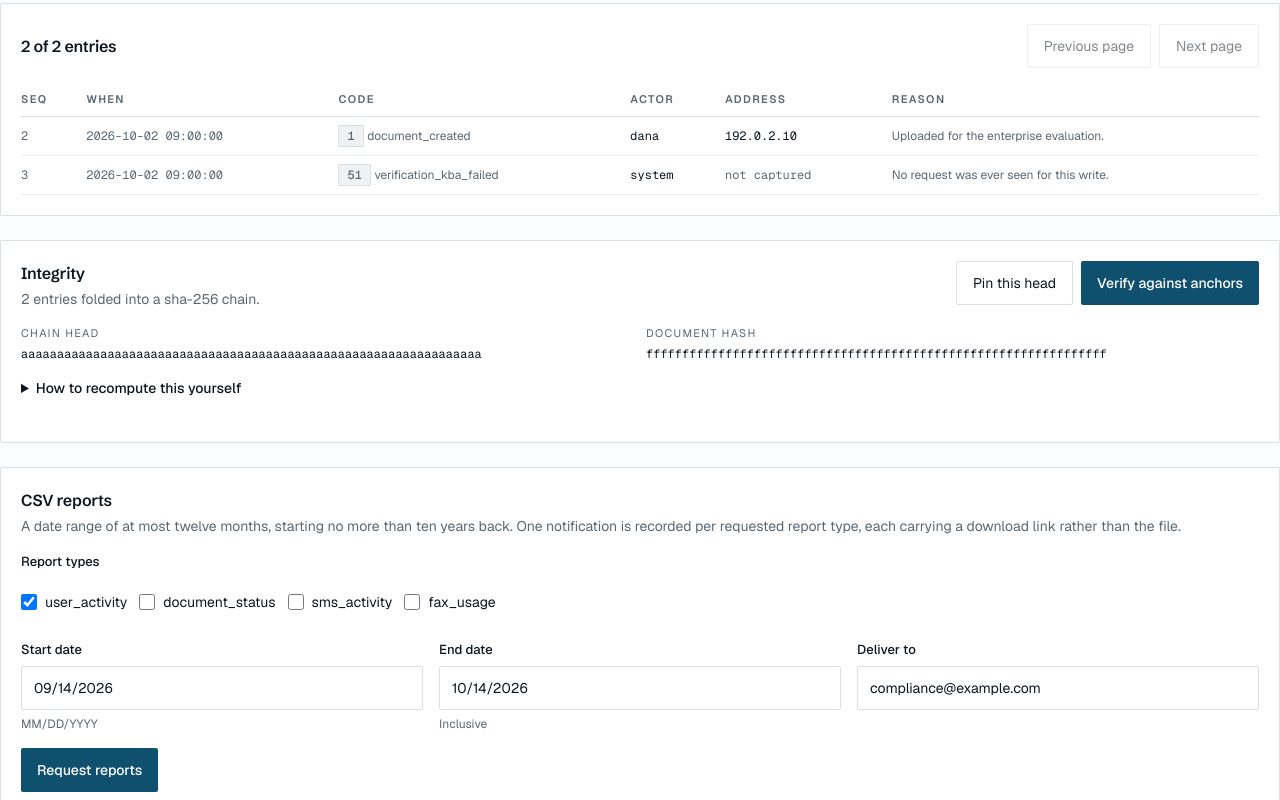
Scenario: the integrity panel › shows how to recompute the digest, not only the answer
The image size is (1280, 800).
(page scrolled)
Expected: the text "Uploaded for the enterprise evaluation." is shown, [892, 116, 1259, 156]
Click the heading "How to recompute this yourself": [139, 388] box [36, 379, 241, 397]
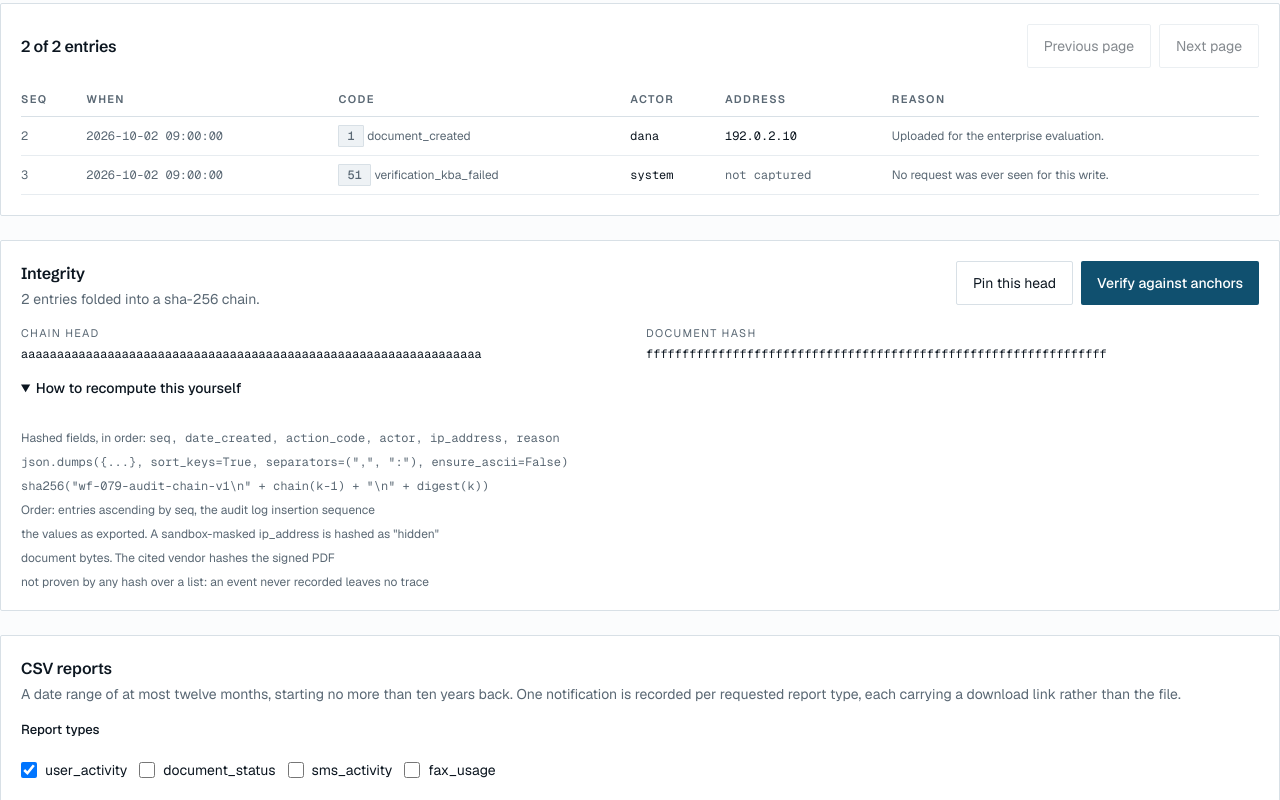
Expected: the text "sort_keys=True" is shown, [21, 454, 568, 470]
Expected: the text "ascending by seq" is shown, [58, 502, 375, 518]
